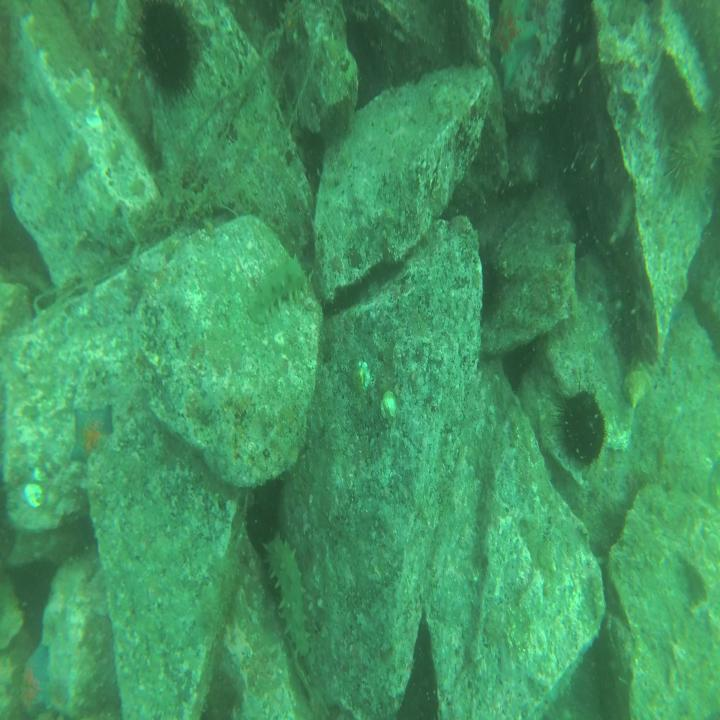echinus: (133, 0, 208, 109), (661, 97, 720, 203), (555, 381, 606, 474), (479, 233, 509, 321)
holothurian: (260, 528, 312, 659), (250, 256, 311, 324)
starfish: (490, 0, 538, 87), (64, 401, 115, 467), (17, 641, 54, 720)
